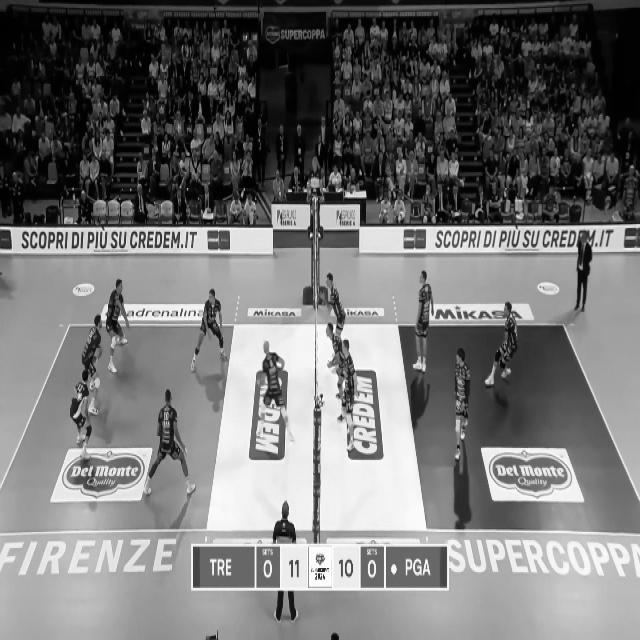volleyball court: (0, 323, 639, 533)
